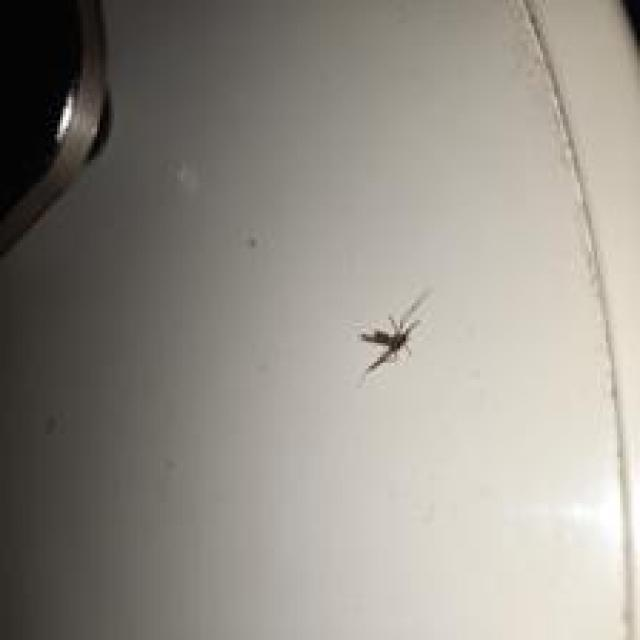Culex: (356, 286, 433, 374)
